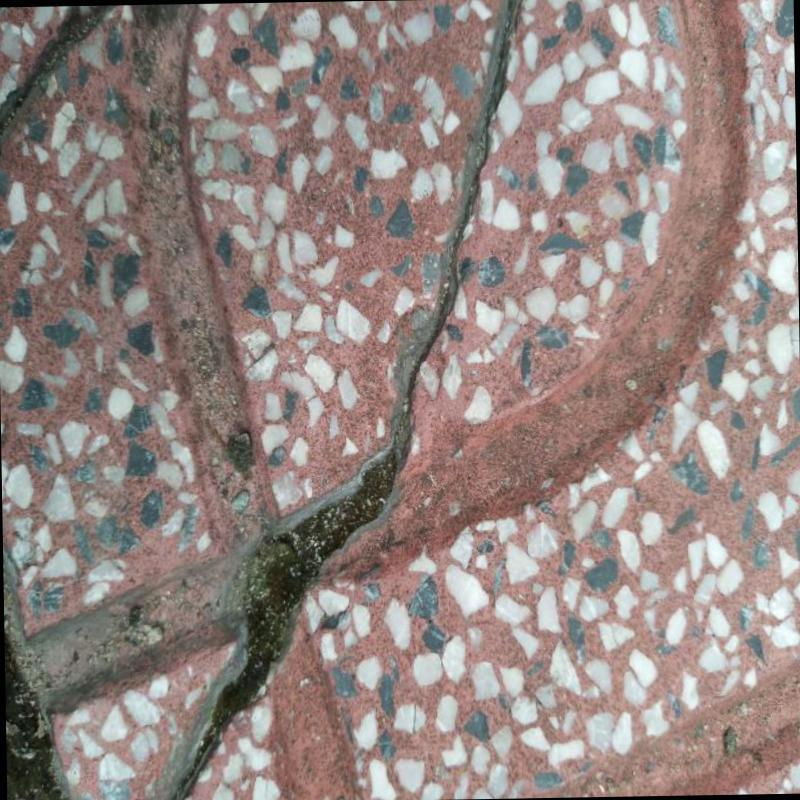pothole: (154, 0, 518, 800)
